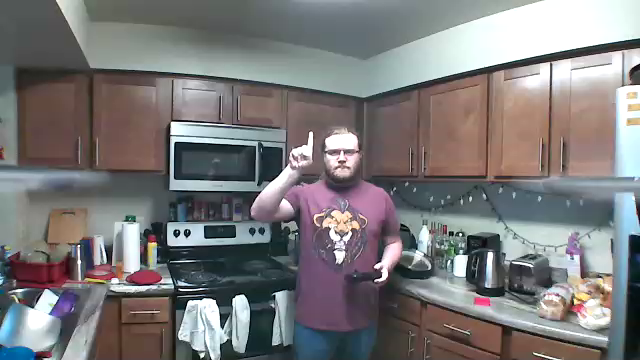up: (287, 130, 315, 170)
